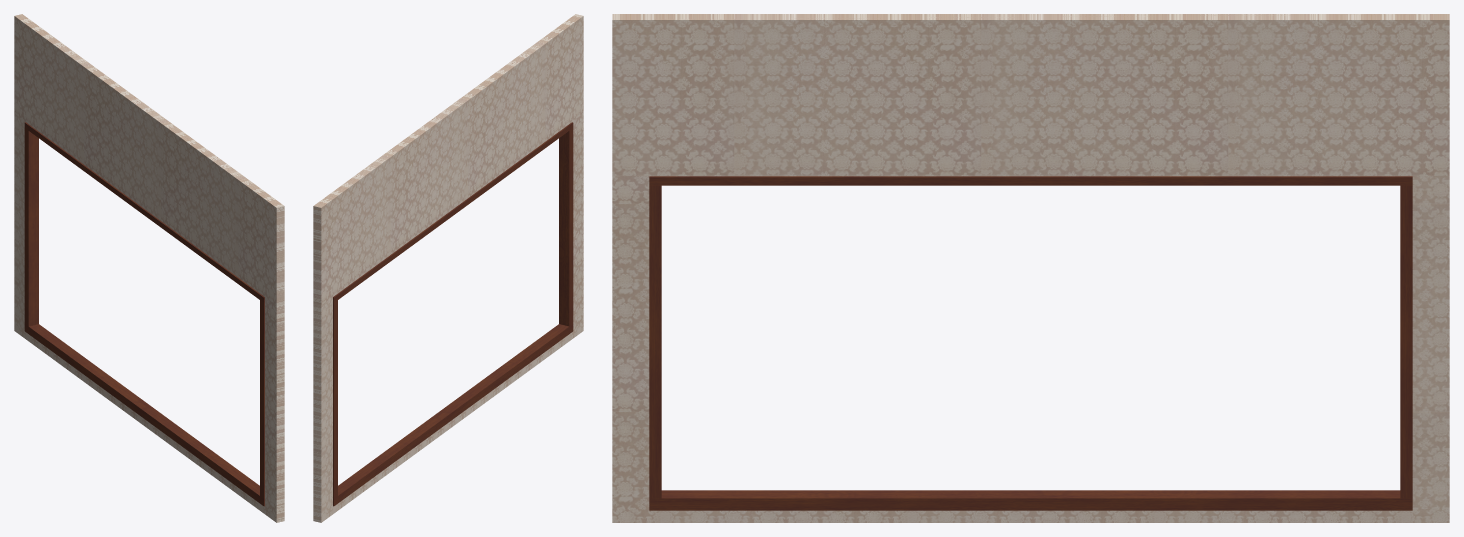
File: SM_WallPaper01D.fbx
The picture shows the model from 3 angles, left to right: view 1: azimuth 30°, elevation 25°; view 2: azimuth 150°, elevation 25°; view 3: azimuth 270°, elevation 25°; orthographic projection. The views are drawn at different scales.
Parts seen in each view (by area): view 1: SM_WallPaper01D; view 2: SM_WallPaper01D; view 3: SM_WallPaper01D.
Part boxes in pixels (x1,y1,x2,y2): SM_WallPaper01D: [14, 14, 284, 522]; SM_WallPaper01D: [313, 14, 583, 522]; SM_WallPaper01D: [612, 14, 1449, 522].
Size of the model in its own units: 8.99 by 393 by 261.
2 materials, 2 textured.
